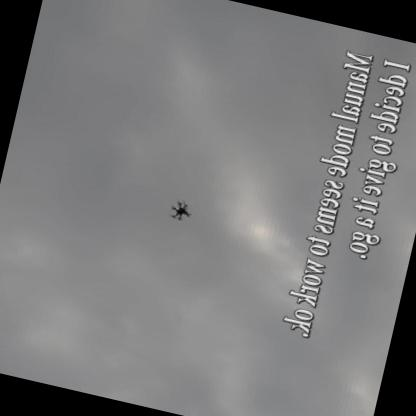drone: (165, 196, 197, 225)
